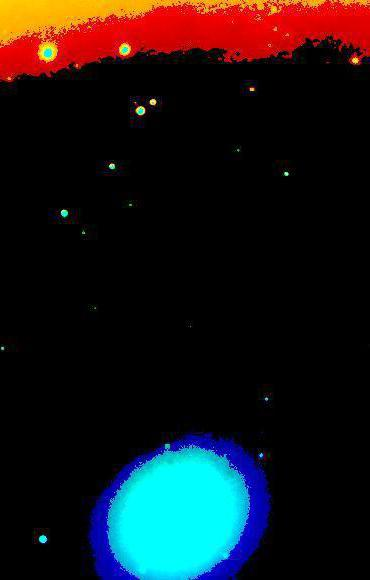star: (155, 430, 185, 460)
